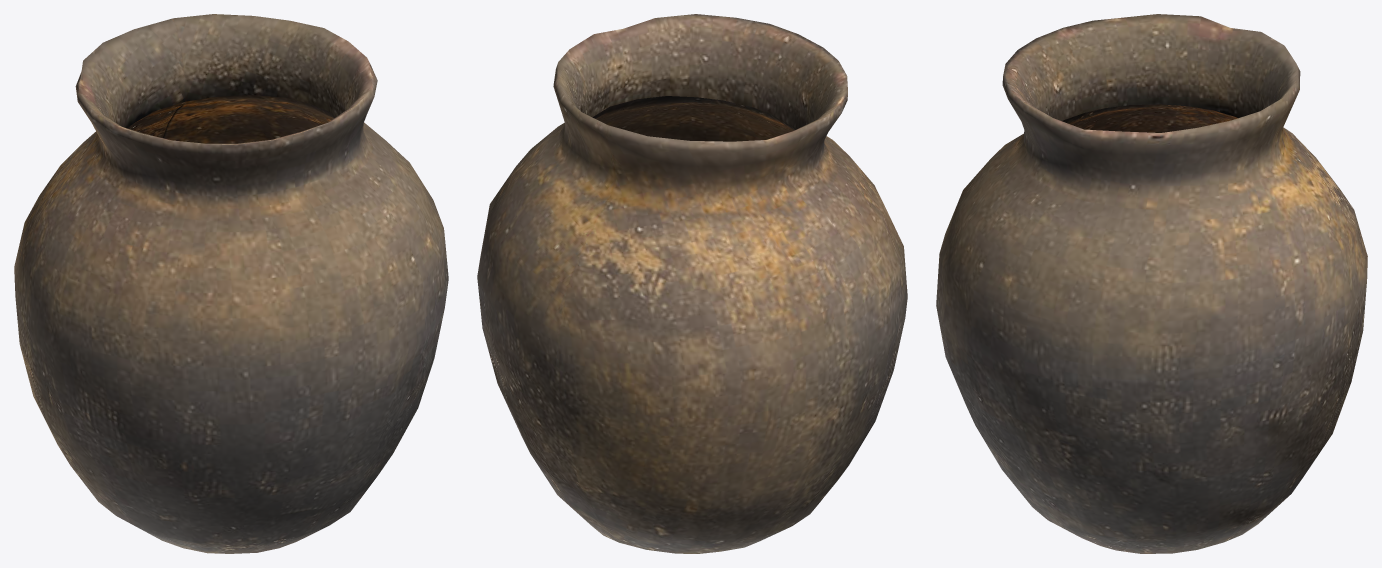
Rendered from antiquity5_51.fbx.
3 renders of one model, left to right at view 1: azimuth 30°, elevation 25°; view 2: azimuth 150°, elevation 25°; view 3: azimuth 270°, elevation 25°, orthographic.
Parts seen in each view (by area): view 1: 0565_T; view 2: 0565_T; view 3: 0565_T.
Boxes of the visible parts, <box> form: 0565_T: <box>14,14,448,553</box>; 0565_T: <box>477,14,907,553</box>; 0565_T: <box>936,14,1367,553</box>.
Bounding box in the file's own units: 33.37 × 37.8 × 33.27.
Materials: 1 (1 with a texture image).
